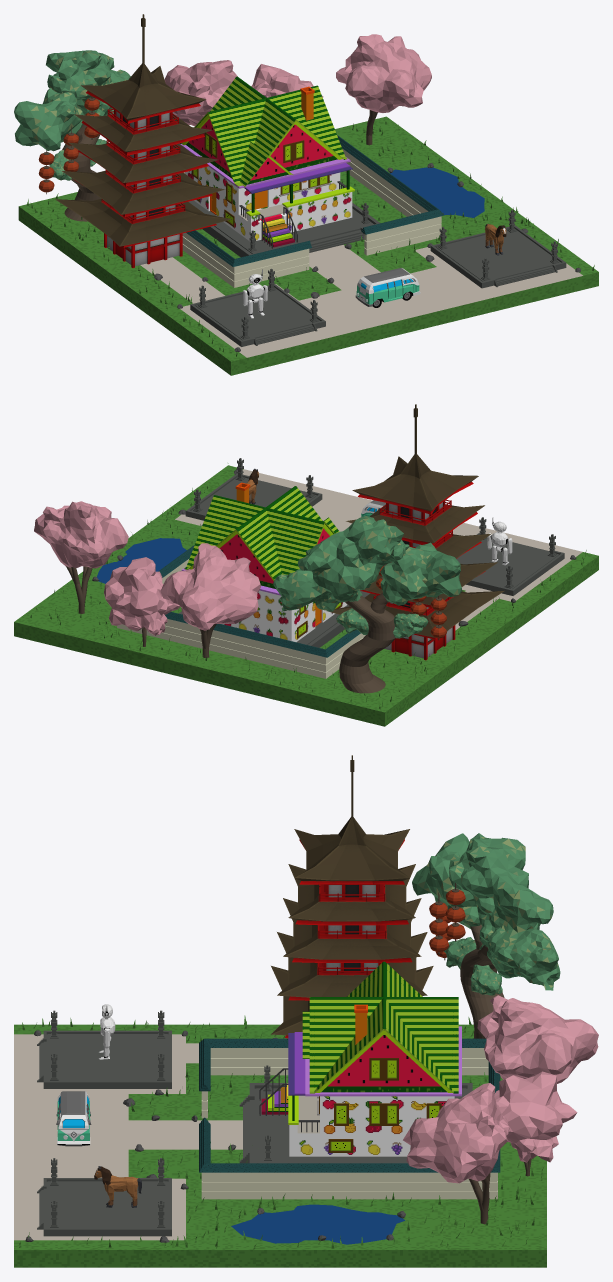
3 renders of one model, top to bottom at view 1: azimuth 30°, elevation 25°; view 2: azimuth 150°, elevation 25°; view 3: azimuth 270°, elevation 25°, orthographic. The views are drawn at different scales.
Visible parts, largest first — view 1: Cube.005, Cube.1063, VEHICLES_VAN, OBJRANDOM_PLATZEEBOT, ANIMAL_CABALLO; view 2: Cube.005, Cube.1063, OBJRANDOM_PLATZEEBOT; view 3: Cube.005, Cube.1063, VEHICLES_VAN, ANIMAL_CABALLO.
Boxes of the visible parts, bbox=[...] form: Cube.005: bbox=[14, 14, 598, 375]; Cube.1063: bbox=[179, 76, 354, 248]; VEHICLES_VAN: bbox=[355, 268, 420, 307]; OBJRANDOM_PLATZEEBOT: bbox=[243, 269, 267, 318]; ANIMAL_CABALLO: bbox=[485, 223, 506, 255]; Cube.005: bbox=[14, 404, 598, 726]; Cube.1063: bbox=[181, 482, 347, 642]; OBJRANDOM_PLATZEEBOT: bbox=[487, 517, 512, 565]; Cube.005: bbox=[14, 755, 598, 1267]; Cube.1063: bbox=[259, 961, 461, 1156]; VEHICLES_VAN: bbox=[56, 1091, 91, 1146]; ANIMAL_CABALLO: bbox=[94, 1166, 141, 1207].
Size of the model in its own units: 4528 by 2698 by 4389.
Materials: 41 (7 with a texture image).
